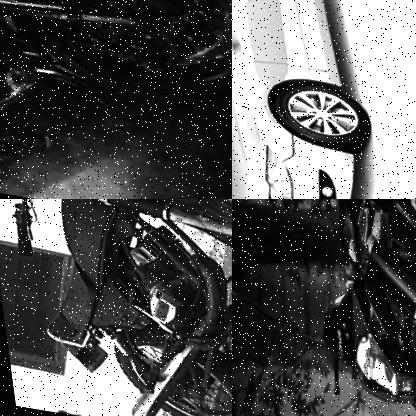bike: (0, 199, 232, 416), (257, 199, 416, 416)
car: (232, 0, 401, 199)
